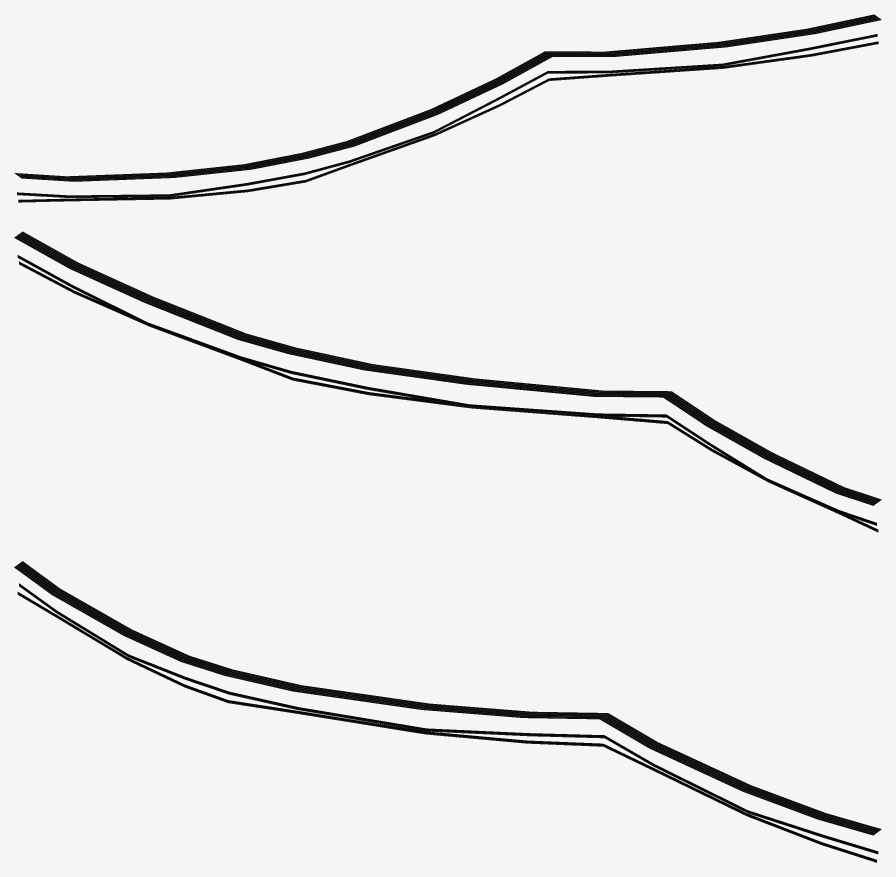
File: vgsn_telewire12.obj
The picture shows the model from 3 angles, top to bottom: view 1: azimuth 30°, elevation 25°; view 2: azimuth 150°, elevation 25°; view 3: azimuth 330°, elevation 25°; orthographic projection. The views are drawn at different scales.
Parts seen in each view (by area): view 1: vgsN_telewire12; view 2: vgsN_telewire12; view 3: vgsN_telewire12.
Boxes of the visible parts, <box> form: vgsN_telewire12: <box>14,14,881,202</box>; vgsN_telewire12: <box>14,231,881,532</box>; vgsN_telewire12: <box>14,561,881,862</box>.
Size of the model in its own units: 160 by 6.29 by 20.62.
Materials: 1 (1 with a texture image).
